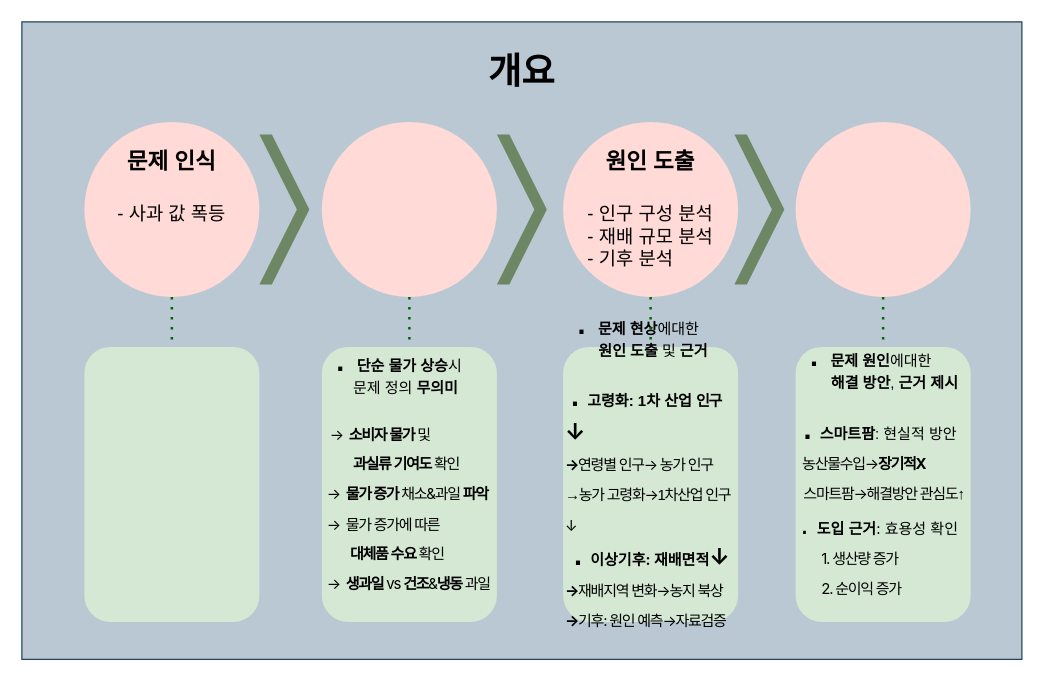
Image size: 1044x683. Some labels were removed from this diagram. The shapes that lost their labels are listed below. From the top down, each one's box as (x1, y1, x2, y2) in pixels, then its label:
(321, 121, 496, 296): 문제 분석 - 물가 상승률 - 채소 & 과일 - 대체품 수요
(795, 121, 970, 296): 해결책 제시 - 스마트팜 - 근거1: 생산량 - 근거2: 순이익
(84, 346, 259, 621): . 사과 값 폭등 (24년도 1분기) → 단순 물가 상승 여부 확인 필요
